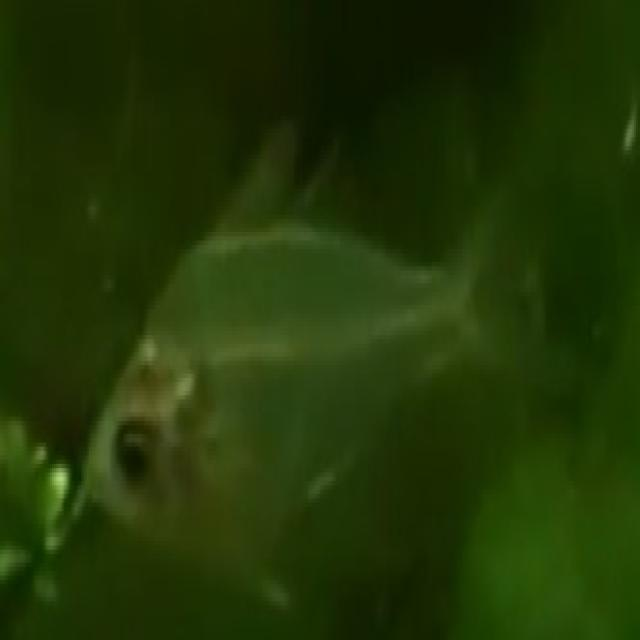Glass-Perchlet: (58, 60, 553, 577)
